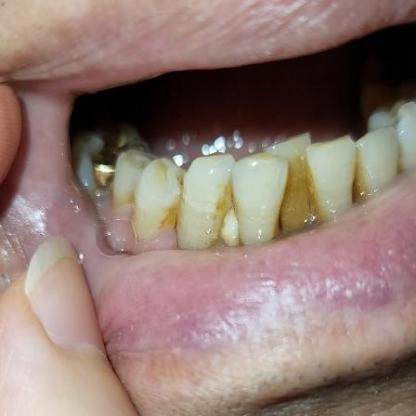Crowding: (230, 134, 313, 241)
